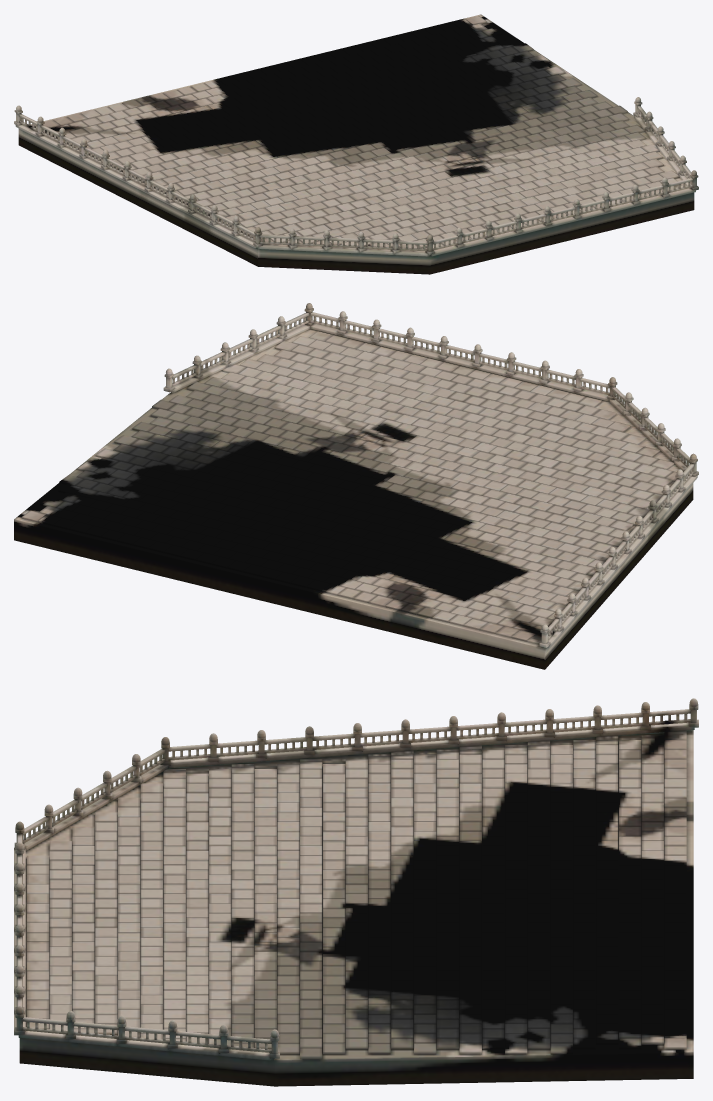
The model's file is terrace-clean.glb.
3 views of the same model, one above another, from view 1: azimuth 30°, elevation 25°; view 2: azimuth 150°, elevation 25°; view 3: azimuth 270°, elevation 25° (orthographic). The views are drawn at different scales.
Parts seen in each view (by area): view 1: Expanded coastal terrace without inlay; view 2: Expanded coastal terrace without inlay; view 3: Expanded coastal terrace without inlay.
Part boxes in pixels (x1,y1,x2,y2): Expanded coastal terrace without inlay: (14,14,698,274); Expanded coastal terrace without inlay: (14,303,698,669); Expanded coastal terrace without inlay: (14,698,698,1086).
Bounding box in the file's own units: 43.62 × 3.44 × 37.6.
1 material, 1 textured.
